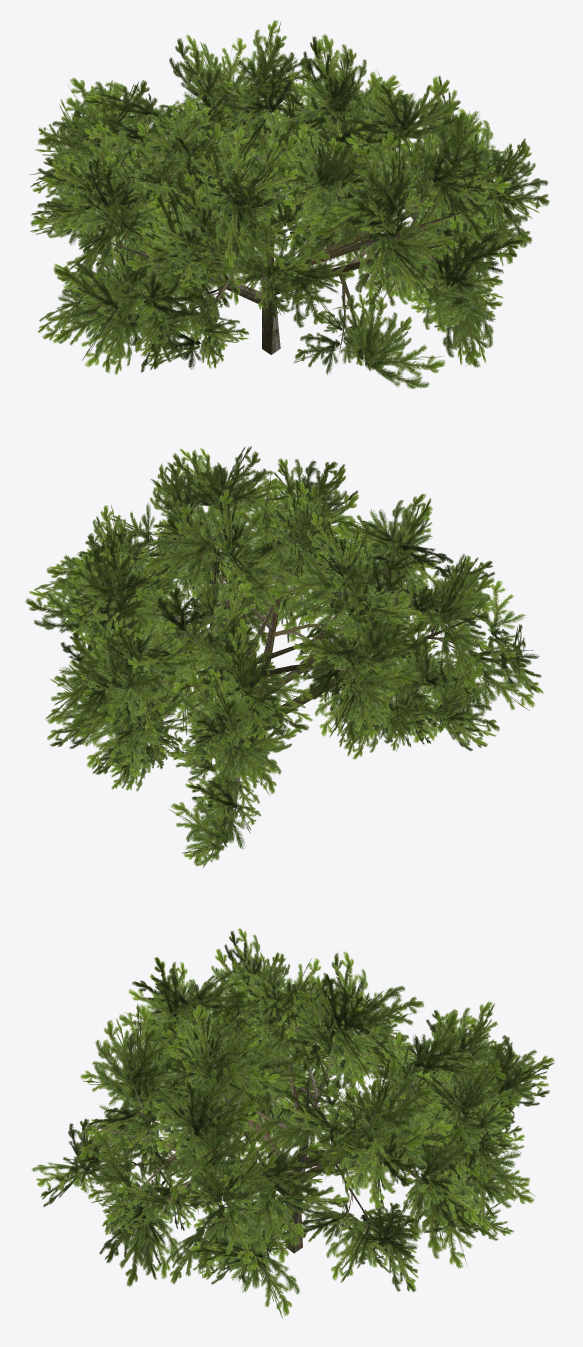
Rendered from Tree_Bush.glb.
3 renders of one model, top to bottom at view 1: azimuth 30°, elevation 25°; view 2: azimuth 150°, elevation 25°; view 3: azimuth 270°, elevation 25°, orthographic. The views are drawn at different scales.
Parts seen in each view (by area): view 1: Tree_Bush; view 2: Tree_Bush; view 3: Tree_Bush.
Boxes of the visible parts, x1,y1,x2,y2 form: Tree_Bush: (29,20,549,388); Tree_Bush: (25,446,543,867); Tree_Bush: (31,928,554,1318).
Bounding box in the file's own units: 2.2 × 1.4 × 2.09.
Materials: 2 (2 with a texture image).
